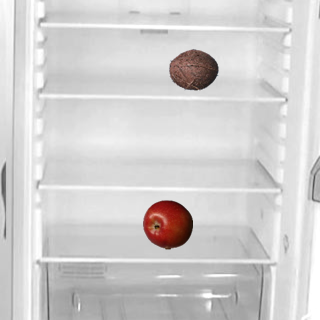Apple Braeburn: (142, 199, 192, 249)
Cocos: (168, 44, 218, 94)
